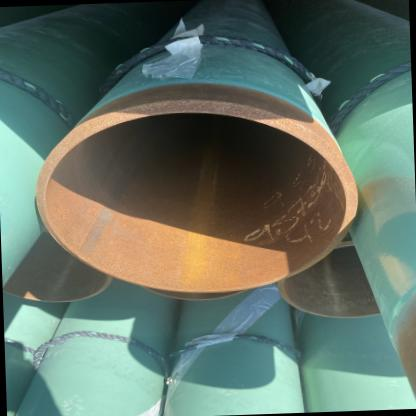clean: (300, 230, 340, 265)
